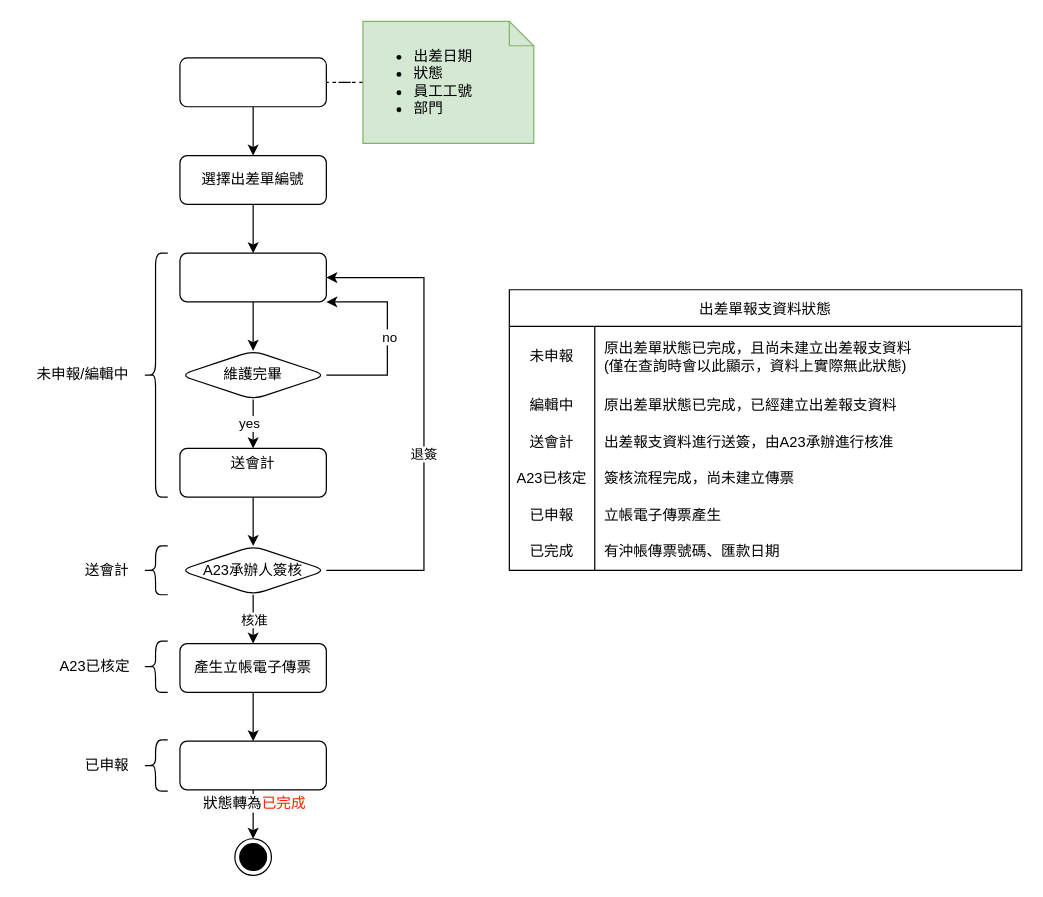
The diagram is 1043 pixels wide and 897 high, and some of its shapes have lost their labels. The centre of each missing label's shape, as x and y in pixels:
"差旅費維護" belongs at [252,277].
"查詢" belongs at [252,82].
"產生沖帳傳票" belongs at [252,765].
